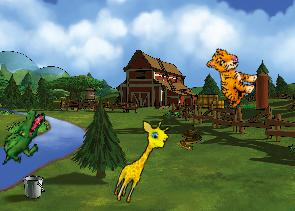crocodile: (0, 105, 46, 170)
giraffe: (110, 115, 173, 209)
tiger: (195, 44, 264, 111)
